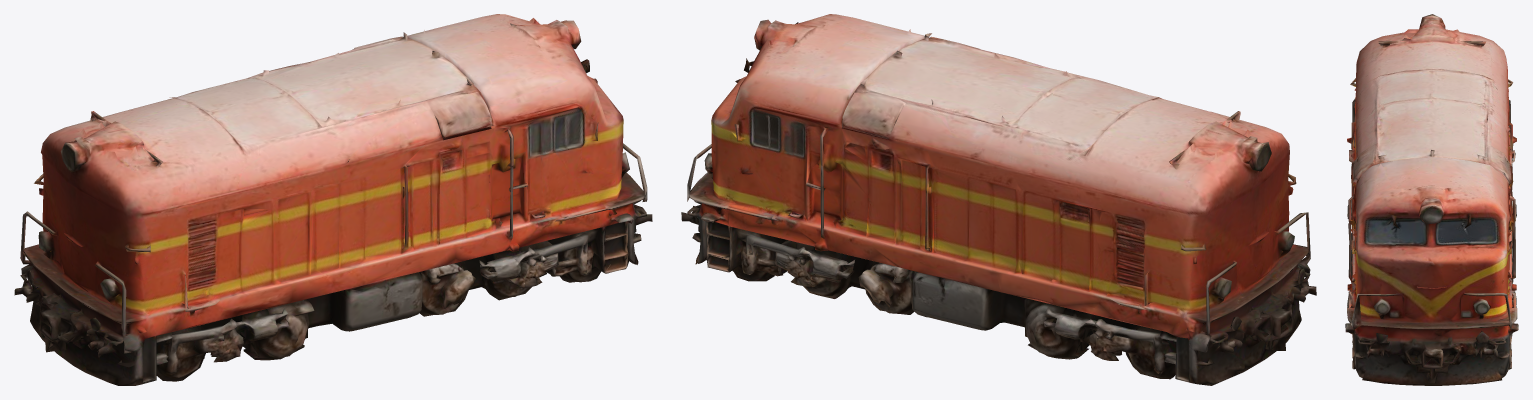
File: rd_shunter.glb
3 renders of one model, left to right at view 1: azimuth 30°, elevation 25°; view 2: azimuth 150°, elevation 25°; view 3: azimuth 270°, elevation 25°, orthographic. The views are drawn at different scales.
Parts seen in each view (by area): view 1: tripo_node_c6adecd6-7f8a-48d8-85bd-81cd1c99b099; view 2: tripo_node_c6adecd6-7f8a-48d8-85bd-81cd1c99b099; view 3: tripo_node_c6adecd6-7f8a-48d8-85bd-81cd1c99b099.
Boxes of the visible parts, left/top/right/bottom form: tripo_node_c6adecd6-7f8a-48d8-85bd-81cd1c99b099: left=14, top=14, right=652, bottom=385; tripo_node_c6adecd6-7f8a-48d8-85bd-81cd1c99b099: left=681, top=14, right=1316, bottom=385; tripo_node_c6adecd6-7f8a-48d8-85bd-81cd1c99b099: left=1345, top=14, right=1518, bottom=385.
Bounding box in the file's own units: 0.9821 × 0.3732 × 0.3277.
Materials: 1 (1 with a texture image).
